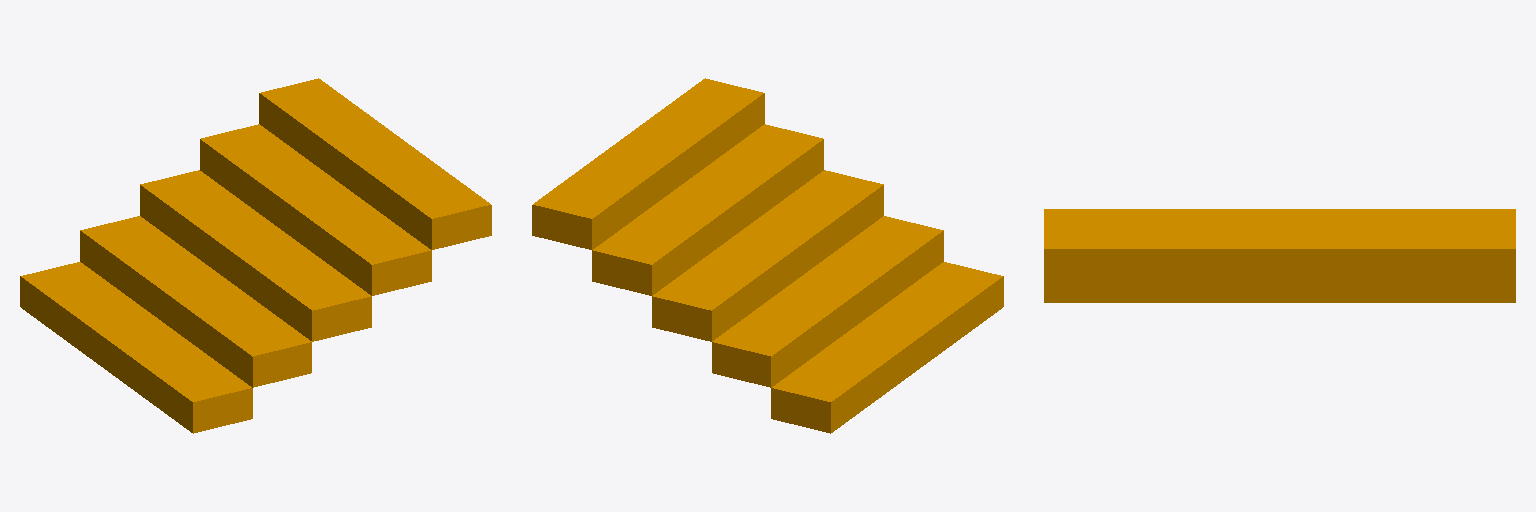
URDF robot description (stair):
<?xml version="1.0" encoding="utf-8"?>
<robot name="stair">
  <link name="boxes">
    <visual>
      <origin rpy="0 0 0" xyz="0.2 0 0.05"/>
      <geometry>
        <box size="0.2 1.0 0.1"/>
      </geometry>
    </visual>
    <collision>
      <origin rpy="0 0 0" xyz="0.2 0 0.05"/>
      <geometry>
        <box size="0.2 1.0 0.1"/>
      </geometry>
    </collision>

    <visual>
      <origin rpy="0 0 0" xyz="0.4 0 0.15"/>
      <geometry>
        <box size="0.2 1.0 0.1"/>
      </geometry>
    </visual>
    <collision>
      <origin rpy="0 0 0" xyz="0.4 0 0.15"/>
      <geometry>
        <box size="0.2 1.0 0.1"/>
      </geometry>
    </collision>

    <visual>
      <origin rpy="0 0 0" xyz="0.6 0 0.25"/>
      <geometry>
        <box size="0.2 1.0 0.1"/>
      </geometry>
    </visual>
    <collision>
      <origin rpy="0 0 0" xyz="0.6 0 0.25"/>
      <geometry>
        <box size="0.2 1.0 0.1"/>
      </geometry>
    </collision>

    <visual>
      <origin rpy="0 0 0" xyz="0.8 0 0.35"/>
      <geometry>
        <box size="0.2 1.0 0.1"/>
      </geometry>
    </visual>
    <collision>
      <origin rpy="0 0 0" xyz="0.8 0 0.35"/>
      <geometry>
        <box size="0.2 1.0 0.1"/>
      </geometry>
    </collision>

    <visual>
      <origin rpy="0 0 0" xyz="1.0 0 0.45"/>
      <geometry>
        <box size="0.2 1.0 0.1"/>
      </geometry>
    </visual>
    <collision>
      <origin rpy="0 0 0" xyz="1.0 0 0.45"/>
      <geometry>
        <box size="0.2 1.0 0.1"/>
      </geometry>
    </collision>
  </link>
</robot>

--- What the picture shows (computed from the rendered views, not written in the file) ---
3 views of the same robot in one strip: view 1: azimuth 30°, elevation 25°; view 2: azimuth 150°, elevation 25°; view 3: azimuth 270°, elevation 25° (orthographic).
Model stair with 1 links and 0 joints (none), rooted at boxes, posed all joints at 0.
Visible links, largest first — view 1: boxes; view 2: boxes; view 3: boxes.
Boxes of the visible links, <box> form: boxes: <box>20,78,491,433</box>; boxes: <box>532,78,1003,433</box>; boxes: <box>1044,209,1515,302</box>.
Size in the robot's own frame: 1 by 1 by 0.5 metres.
Geometry: primitives only (box / cylinder / sphere), no mesh files.